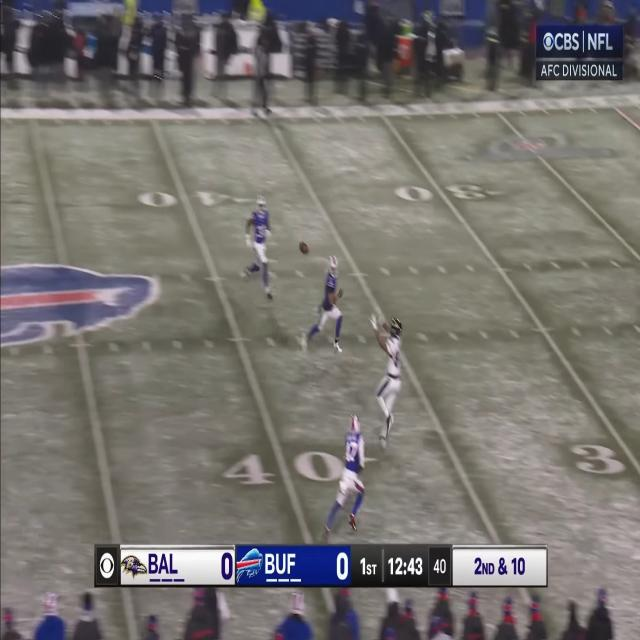Ball: (300, 241, 308, 254)
